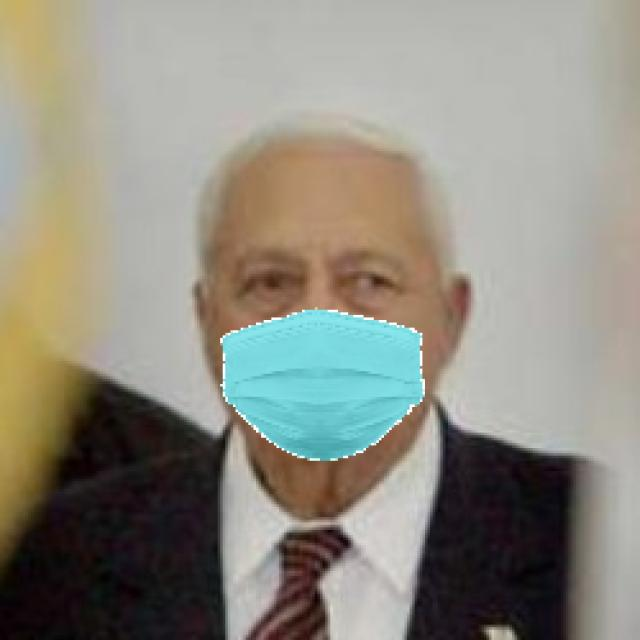mask: (215, 312, 428, 468)
